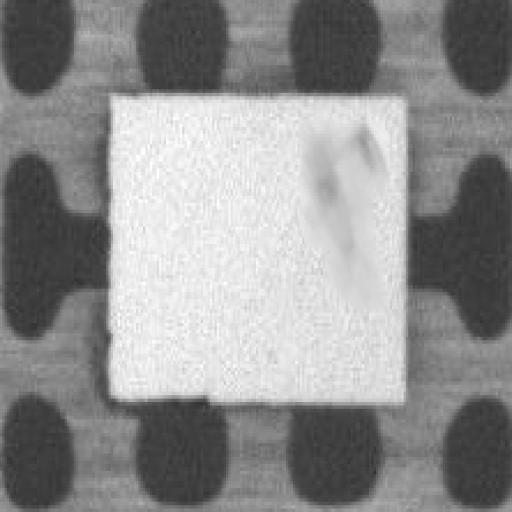DIE_INK: (293, 103, 394, 299)
